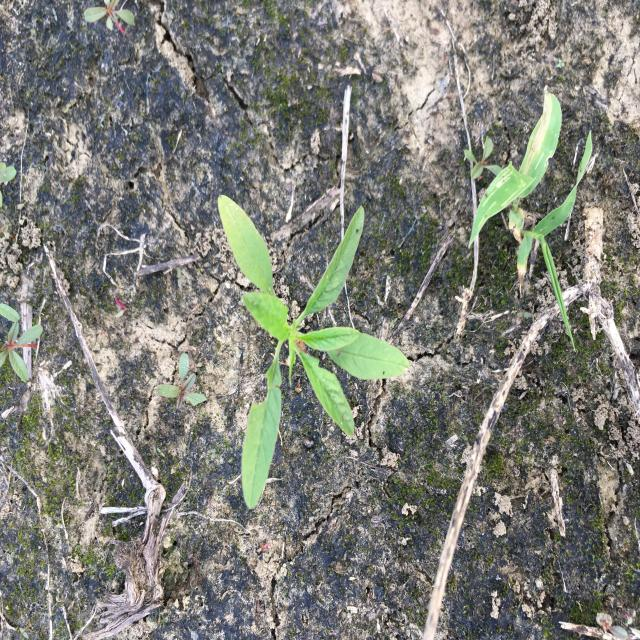Waterhemp: (216, 192, 412, 510), (0, 303, 46, 386), (152, 353, 209, 412)
